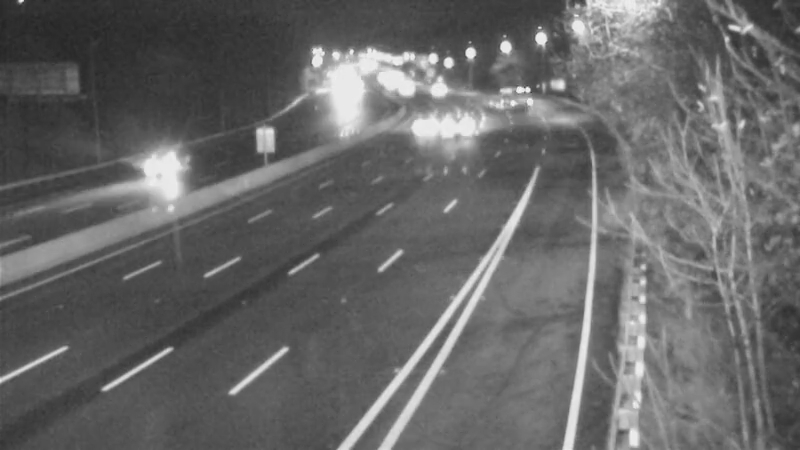vehicle: (122, 122, 202, 202), (411, 65, 461, 115), (380, 67, 430, 117), (496, 71, 546, 121), (394, 98, 444, 148), (438, 98, 488, 148)
